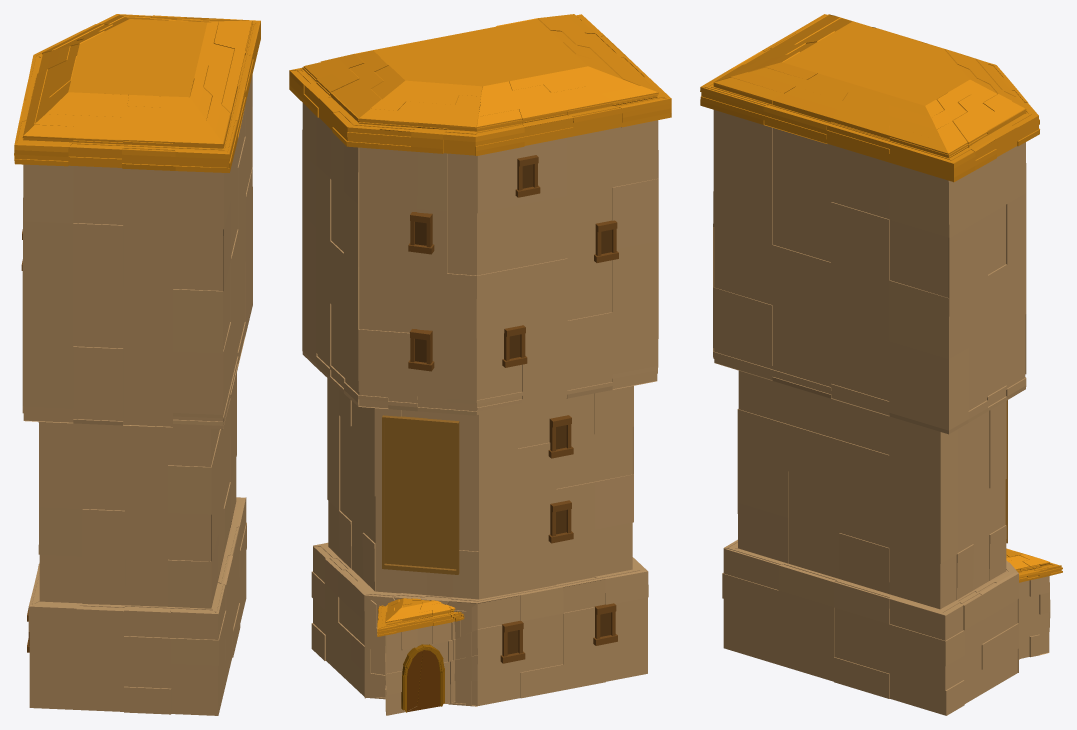
The model's file is Apartment_Building_3.fbx.
3 views of the same model, side by side, from view 1: azimuth 30°, elevation 25°; view 2: azimuth 150°, elevation 25°; view 3: azimuth 270°, elevation 25° (orthographic). The views are drawn at different scales.
Parts seen in each view (by area): view 1: Cube.570; view 2: Cube.570, Cube.596, Cube.430, Cube.594, Cube.595, Cube.591, Cube.592, Cube.590, Cube.571, Cube.582, Cube.593, Cube.586; view 3: Cube.570.
Part boxes in pixels (x1,y1,x2,y2): Cube.570: (14, 14, 260, 715); Cube.570: (289, 14, 671, 715); Cube.596: (382, 415, 459, 574); Cube.430: (401, 644, 444, 712); Cube.594: (408, 329, 434, 371); Cube.595: (408, 212, 434, 254); Cube.591: (548, 415, 573, 458); Cube.592: (594, 220, 618, 262); Cube.590: (548, 500, 573, 543); Cube.571: (502, 325, 527, 367); Cube.582: (500, 620, 525, 663); Cube.593: (515, 155, 540, 197); Cube.586: (593, 603, 617, 645); Cube.570: (700, 14, 1062, 715).
Bounding box in the file's own units: 1454 × 2653 × 1486.
